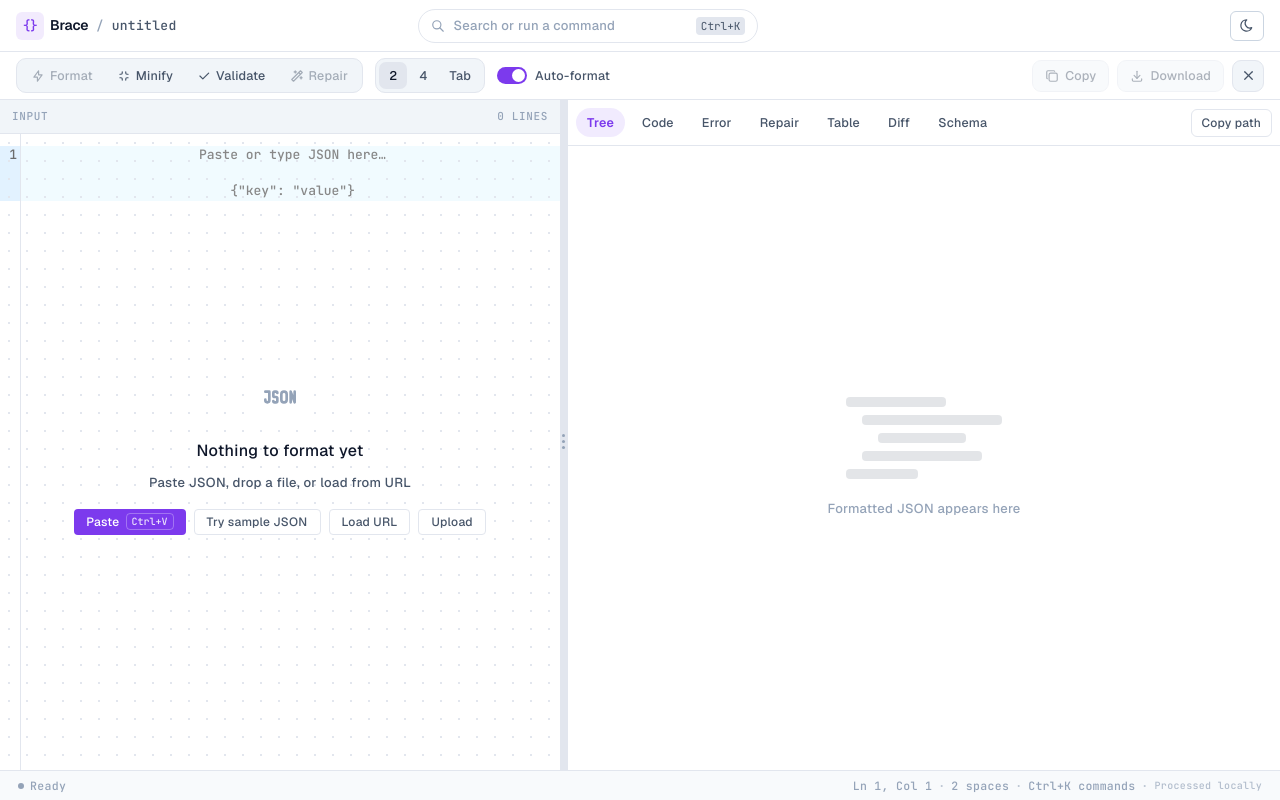
Load URL feature › clicking Load URL button opens the dialog
The image size is (1280, 800).
Click the button with aria-label "load from url": (370, 522) [328, 509, 410, 535]
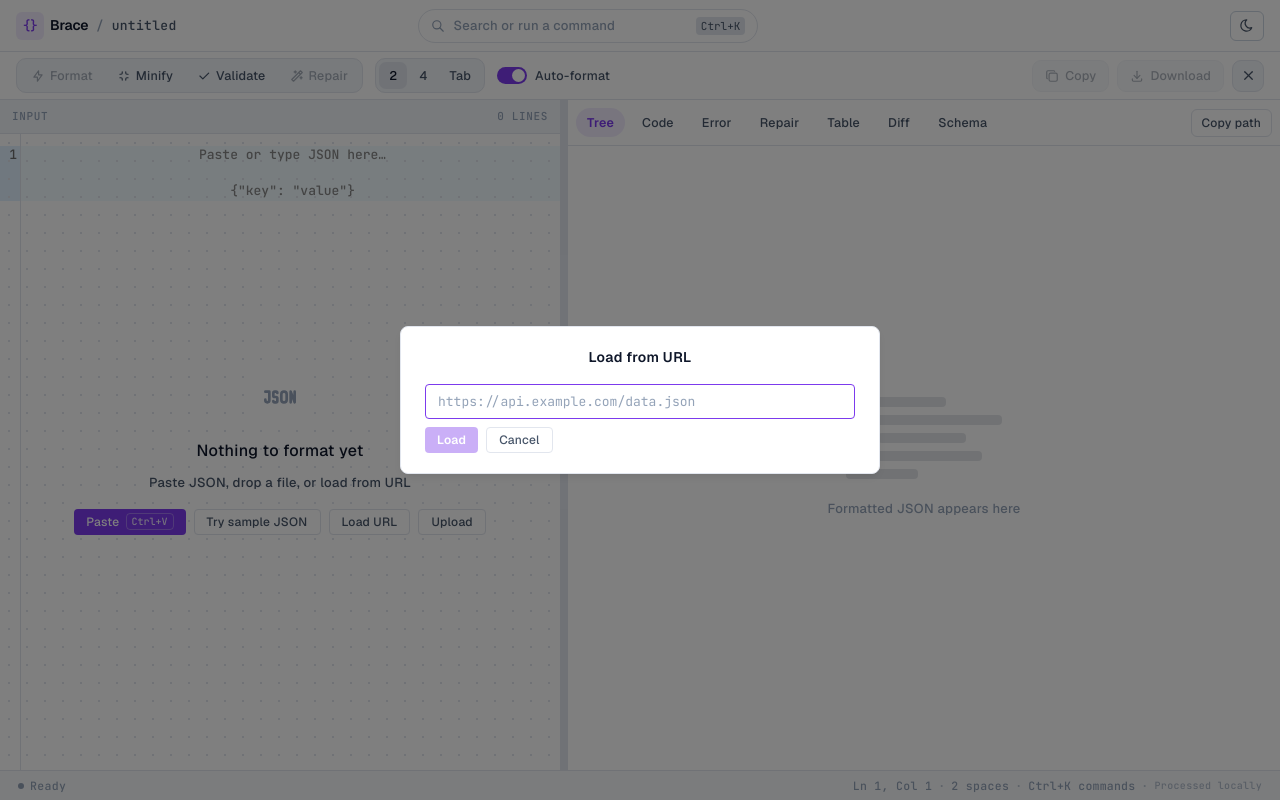
Now the dialog is shown, box [400, 326, 880, 474]
